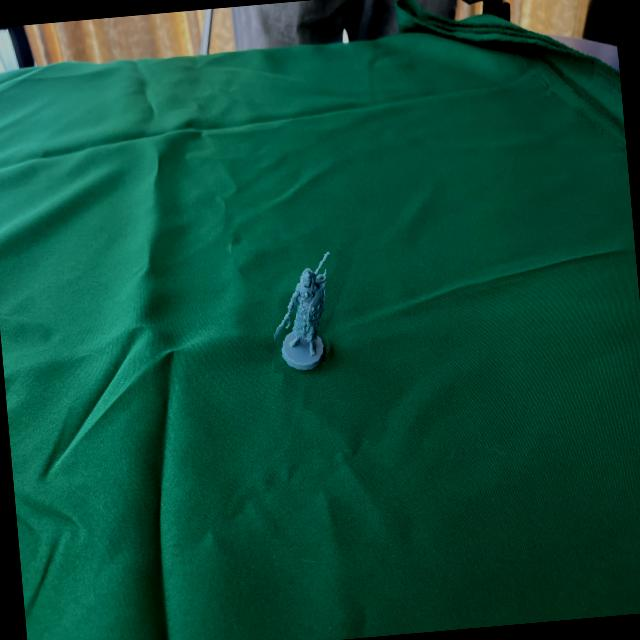isis_follower: (264, 236, 344, 378)
